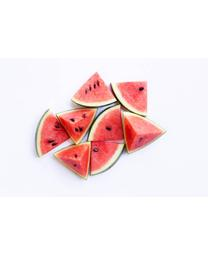watermelon: (36, 70, 169, 180)
